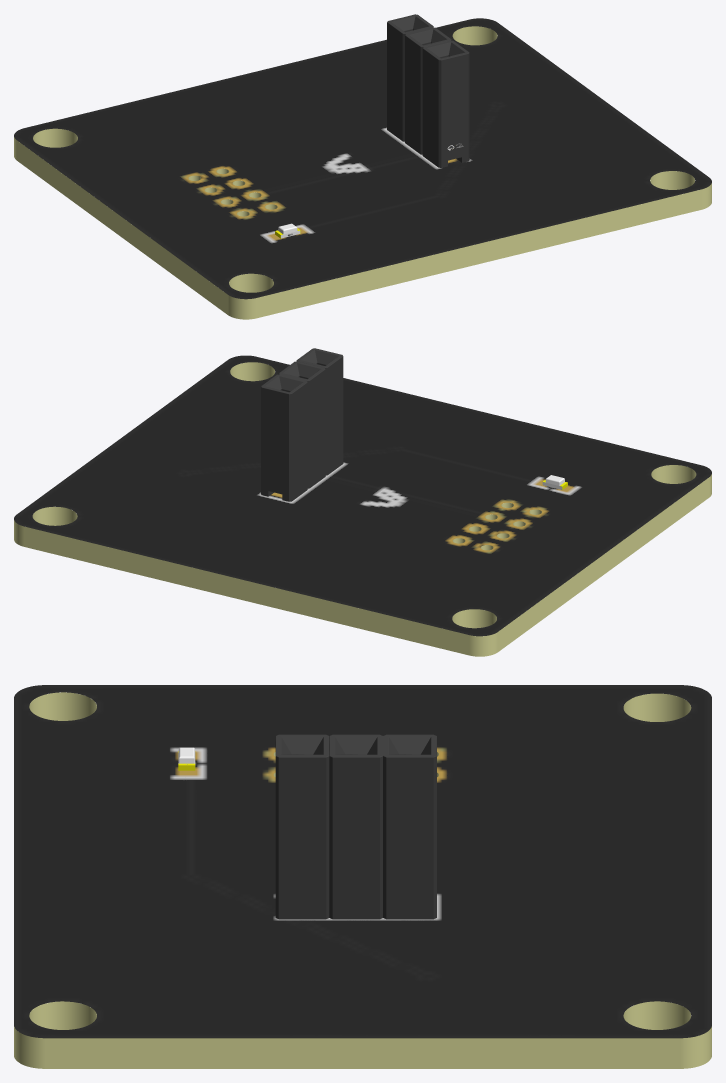
Rendered from servo.glb.
The picture shows the model from 3 angles, top to bottom: view 1: azimuth 30°, elevation 25°; view 2: azimuth 150°, elevation 25°; view 3: azimuth 270°, elevation 25°; orthographic projection. The views are drawn at different scales.
Size of the model in its own units: 0.0395 by 0.0119 by 0.033.
17 materials, 1 textured.
